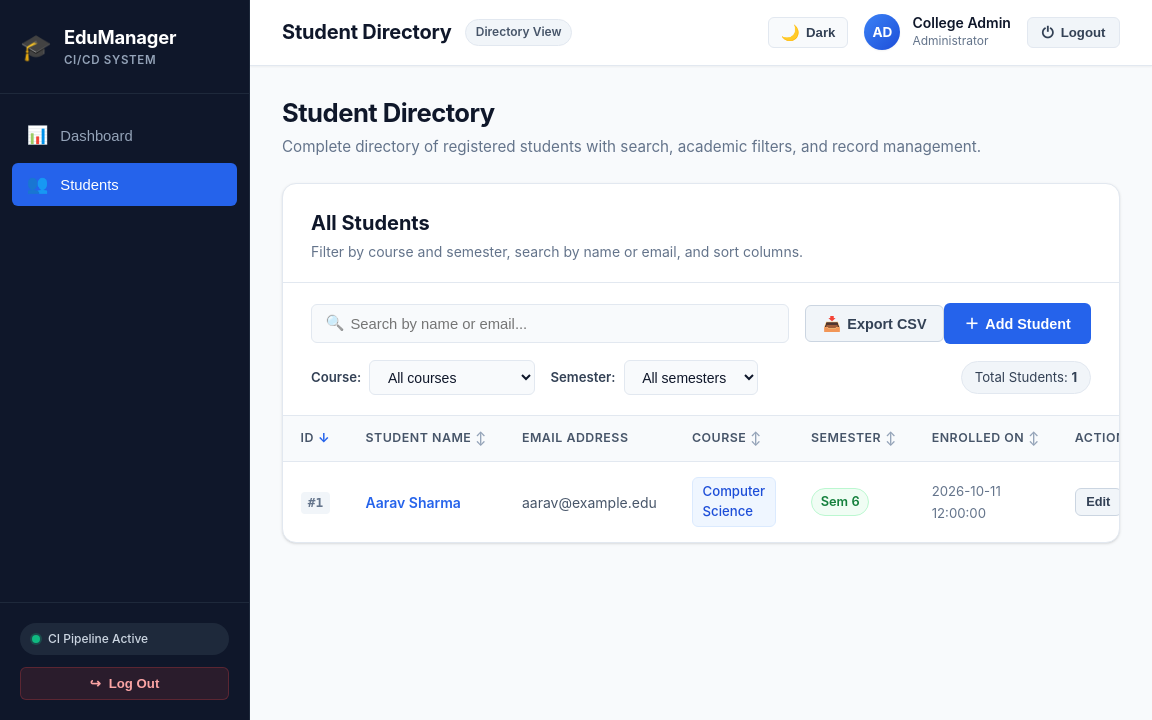
Test: Student Management System - Frontend Tests › opens edit modal and updates existing student
The image size is (1152, 720).
Expected: the table shows "Aarav Sharma", [366, 494, 461, 510]
Click the button with aria-label "edit aarav sharma".
click(1098, 502)  # box [1075, 488, 1122, 516]
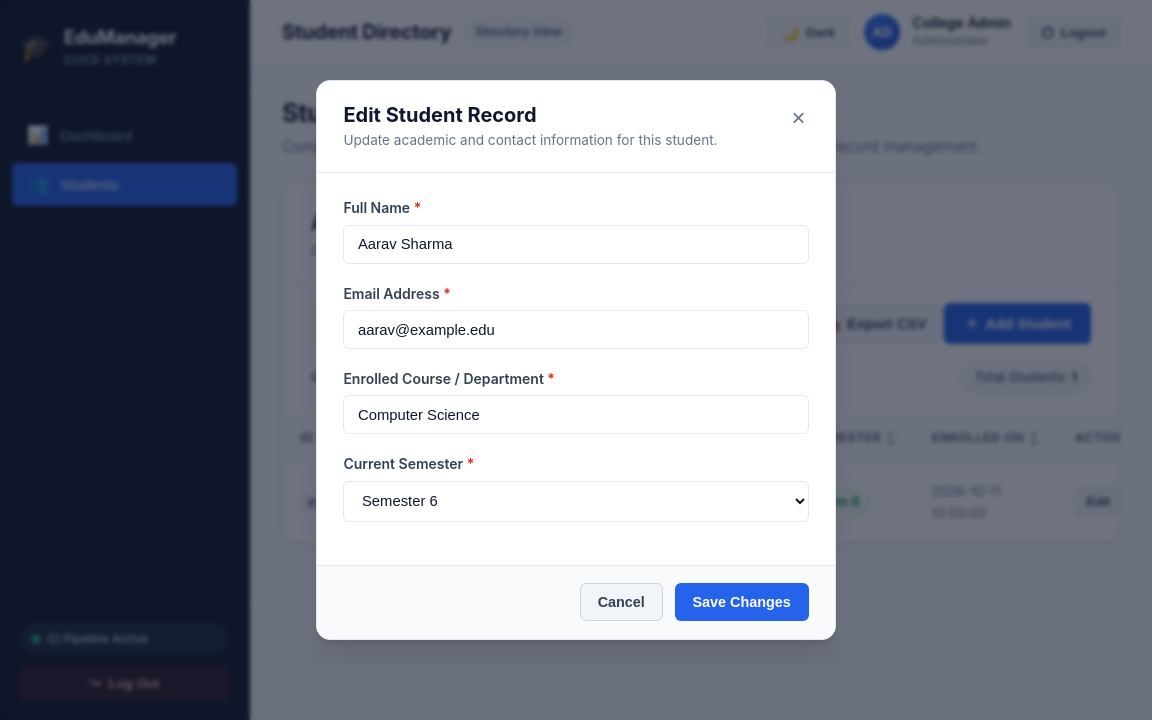
Now the heading "Edit Student Record" is shown, box [343, 103, 537, 127]
Now the field labelled "Full Name *" holds "Aarav Sharma"
Replace the text in the field labelled "Full Name *" with "Aarav Updated" at (576, 244), box [343, 225, 809, 264]
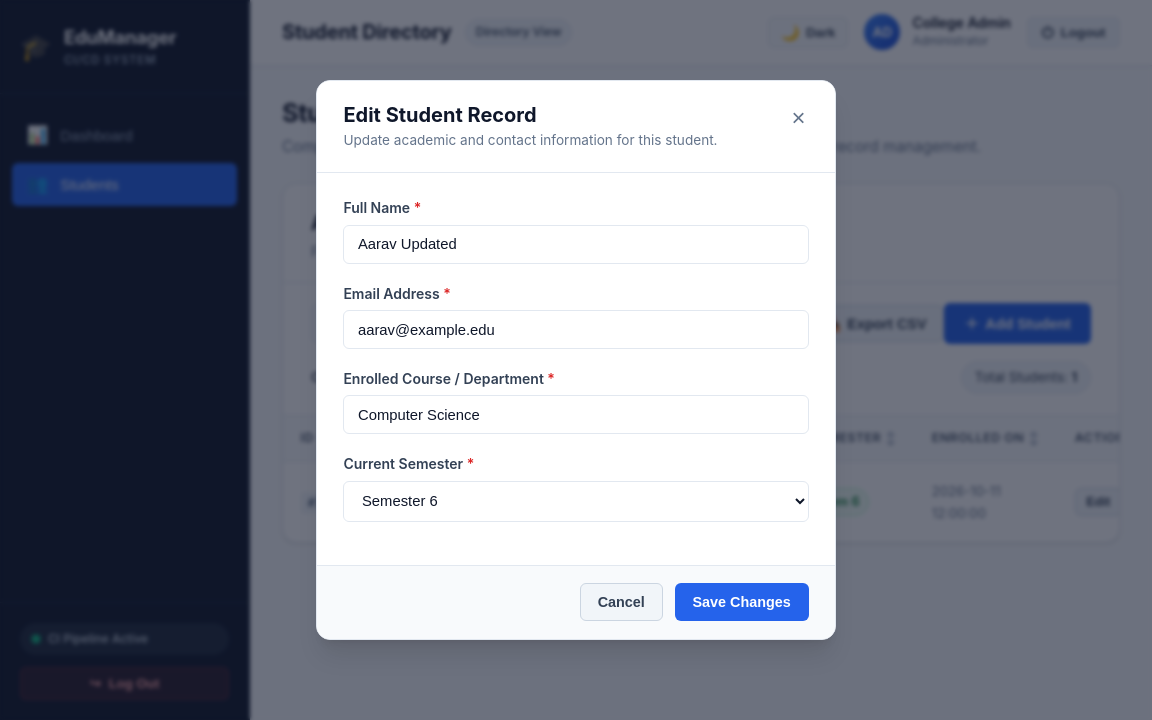
Click the button "Save Changes".
click(742, 602)  # box [675, 583, 809, 621]
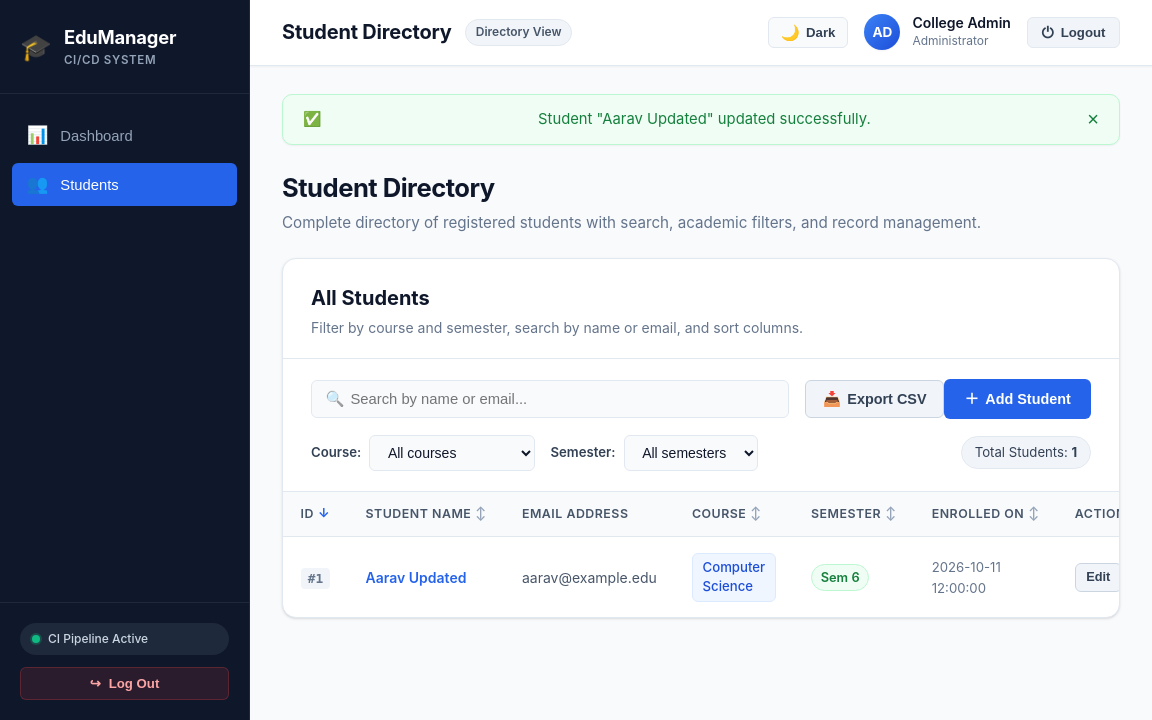
Now the table shows "Aarav Updated", box [366, 569, 466, 586]
